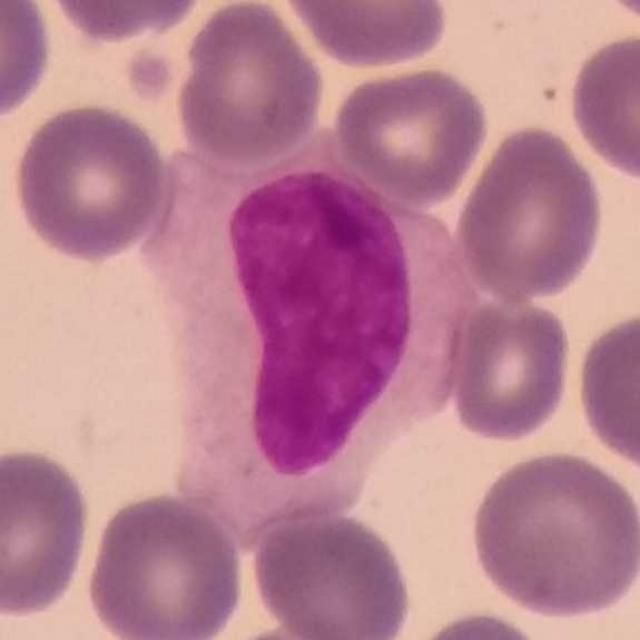Monocyte: (144, 137, 472, 536)
RBC: (465, 446, 640, 624), (452, 120, 607, 306), (7, 98, 177, 265), (170, 0, 328, 167), (82, 488, 248, 640), (329, 62, 492, 206), (247, 506, 416, 640), (441, 292, 576, 446), (0, 442, 96, 622), (280, 0, 453, 71), (564, 29, 640, 189), (571, 306, 640, 480), (32, 0, 212, 46), (0, 0, 56, 124), (395, 606, 556, 640), (212, 620, 380, 640)
